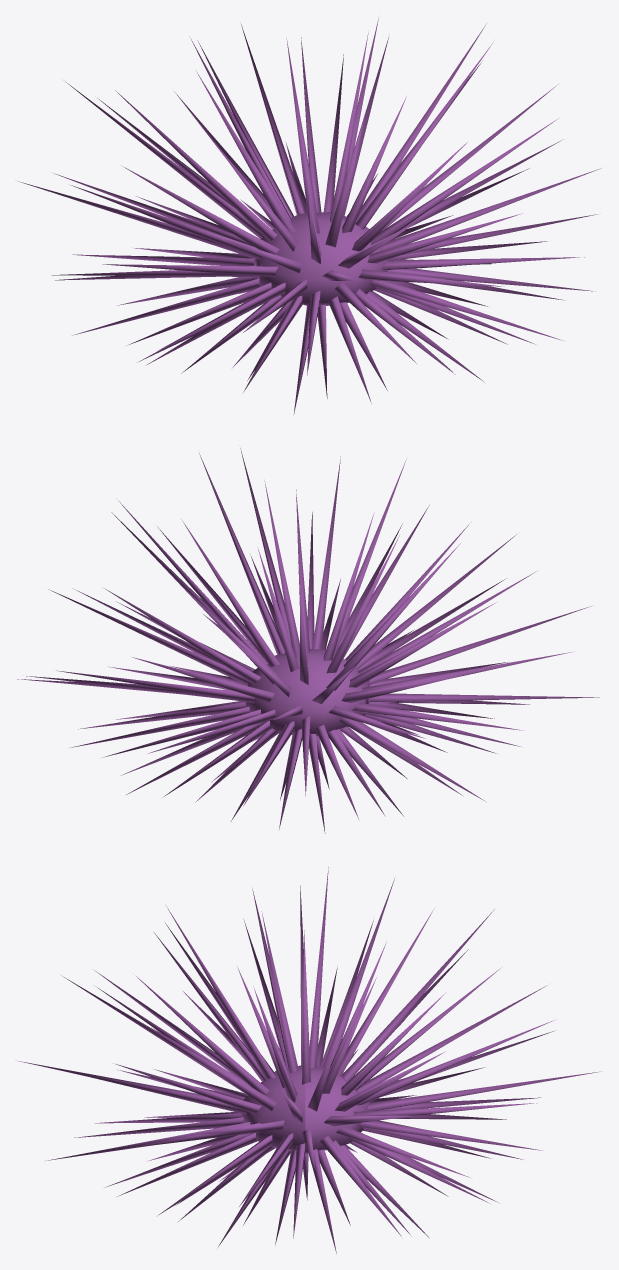
File: sea_urchin_long_spined_lo.glb
3 renders of one model, top to bottom at view 1: azimuth 30°, elevation 25°; view 2: azimuth 150°, elevation 25°; view 3: azimuth 270°, elevation 25°, orthographic. The views are drawn at different scales.
Parts seen in each view (by area): view 1: sea_urchin_long_spined_lo; view 2: sea_urchin_long_spined_lo; view 3: sea_urchin_long_spined_lo.
Part boxes in pixels (x1,y1,x2,y2): sea_urchin_long_spined_lo: (18,17,601,414); sea_urchin_long_spined_lo: (17,448,599,833); sea_urchin_long_spined_lo: (18,867,602,1253).
Size of the model in its own units: 0.2637 by 0.1456 by 0.2801.
